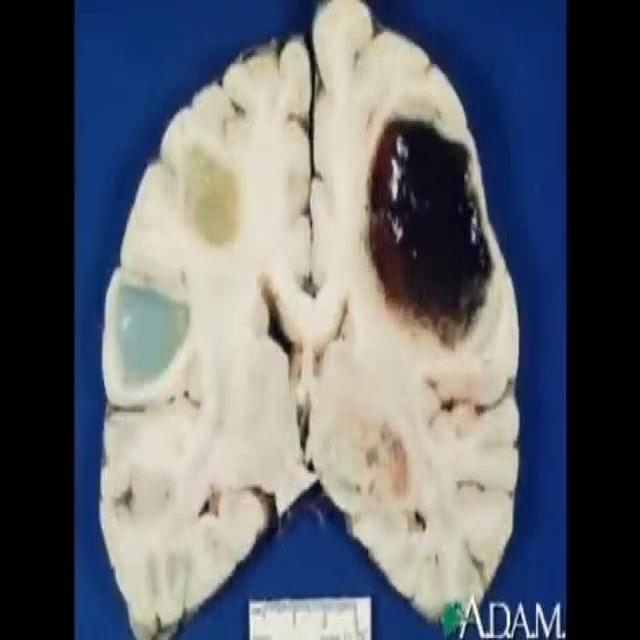tumor: (352, 80, 512, 336)
